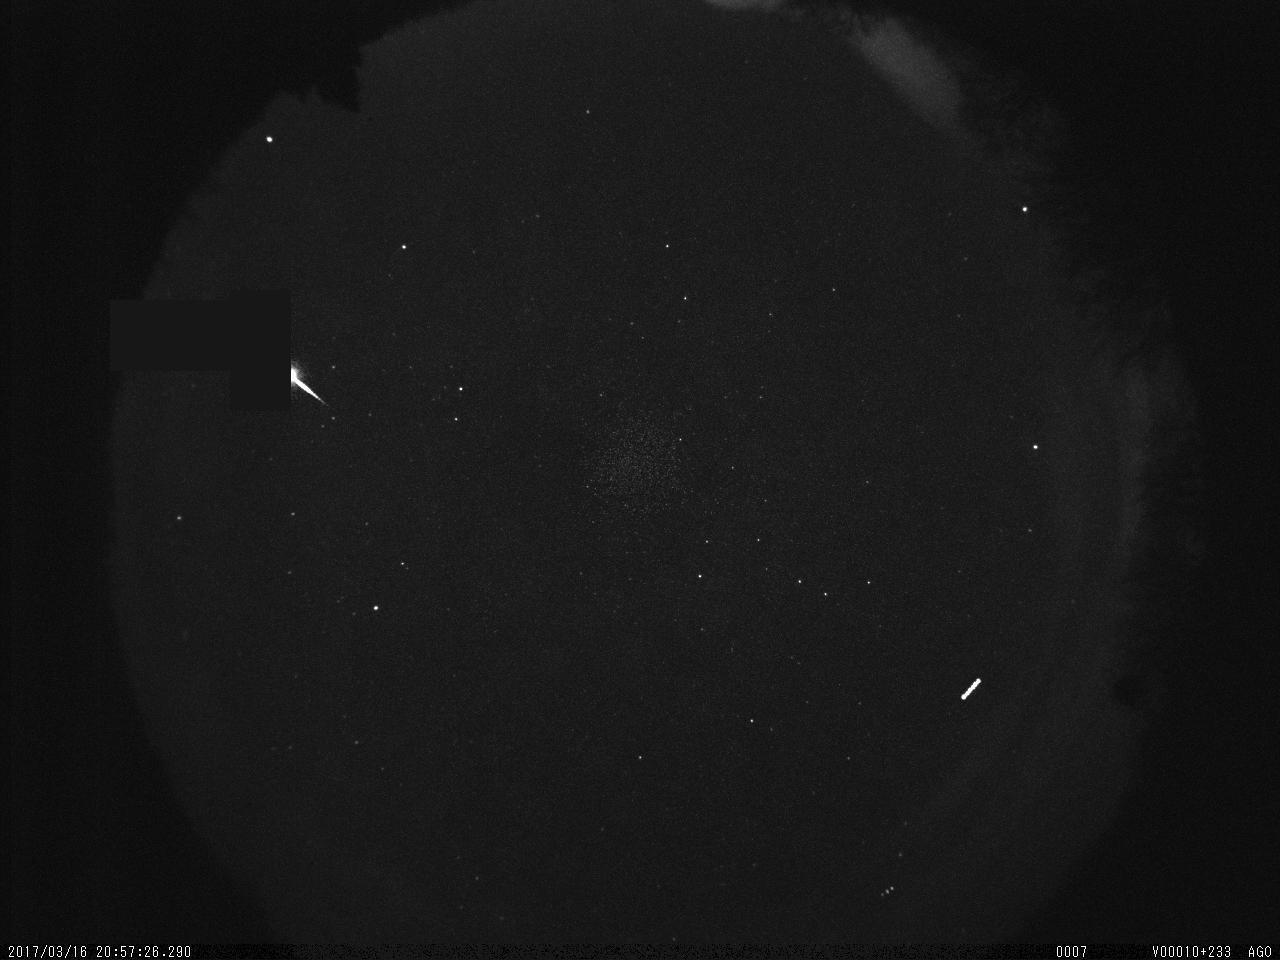meteor: (290, 356, 335, 418)
satelite: (956, 665, 985, 710)
